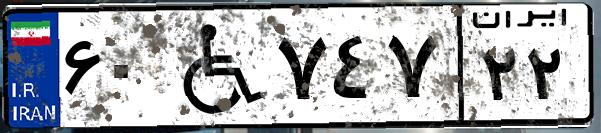0: (110, 28, 158, 98)
2: (475, 38, 525, 113), (525, 38, 570, 115)
4: (330, 28, 385, 110)
6: (57, 26, 110, 100)
7: (270, 28, 330, 110), (385, 28, 445, 110)
ژ (معلولین و جانبازان): (158, 12, 270, 120)
